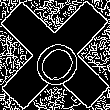O_NE: (22, 21, 88, 89)
